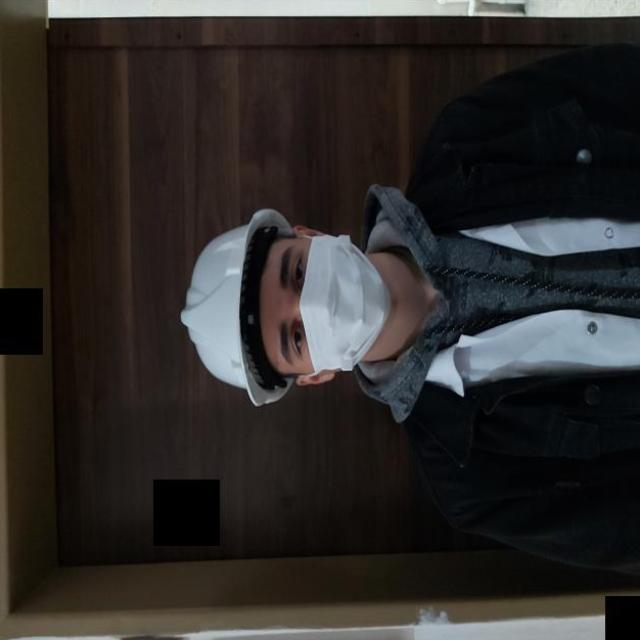helmet: (179, 207, 295, 406)
